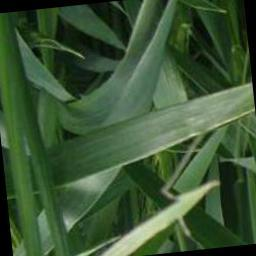Wheat: (45, 83, 253, 189)
